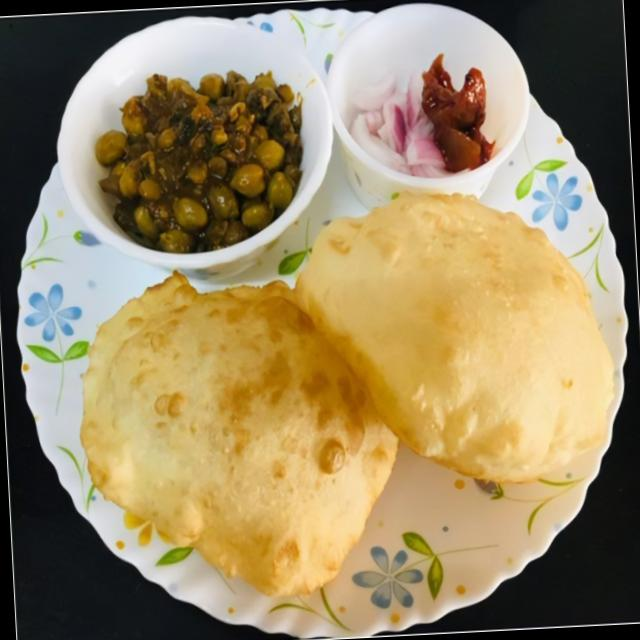Bhatura: (73, 258, 406, 604), (290, 187, 620, 493)
Chole: (91, 58, 312, 252)
